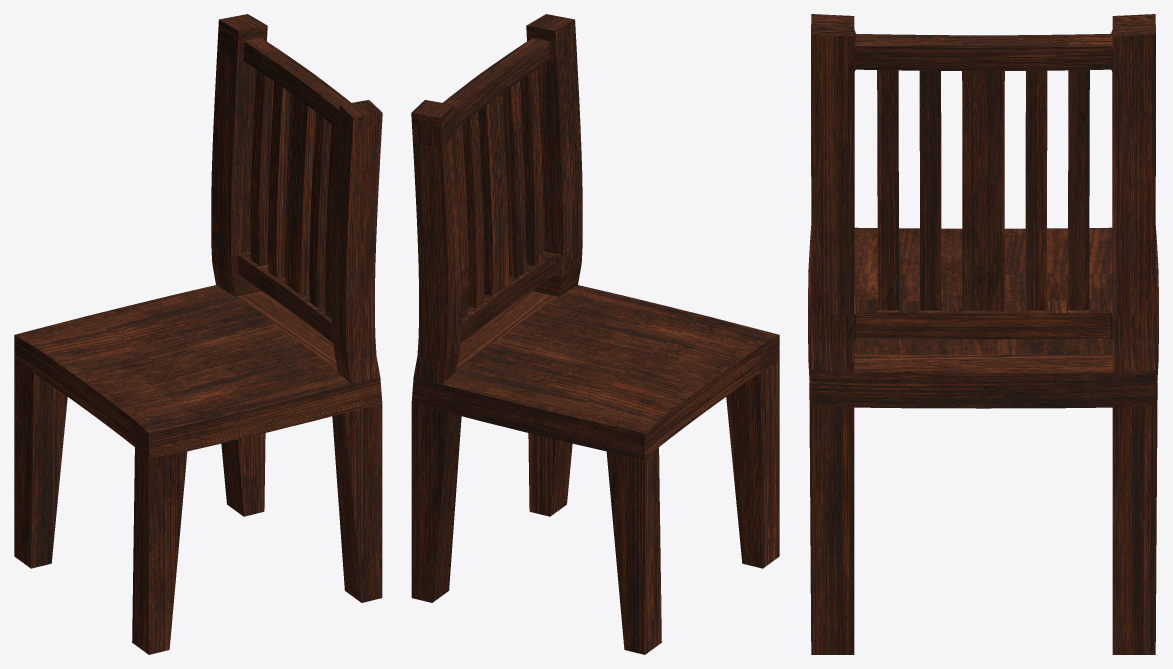
Rendered from silla_3.fbx.
The picture shows the model from 3 angles, left to right: view 1: azimuth 30°, elevation 25°; view 2: azimuth 150°, elevation 25°; view 3: azimuth 270°, elevation 25°; orthographic projection. The views are drawn at different scales.
Visible parts, largest first — view 1: Silla.003; view 2: Silla.003; view 3: Silla.003.
Part boxes in pixels (box(x1,y1,x2,y2)): Silla.003: box(14, 14, 382, 654); Silla.003: box(411, 14, 779, 654); Silla.003: box(808, 14, 1158, 654).
Size of the model in its own units: 71.68 by 140 by 71.68.
1 material, 1 textured.
